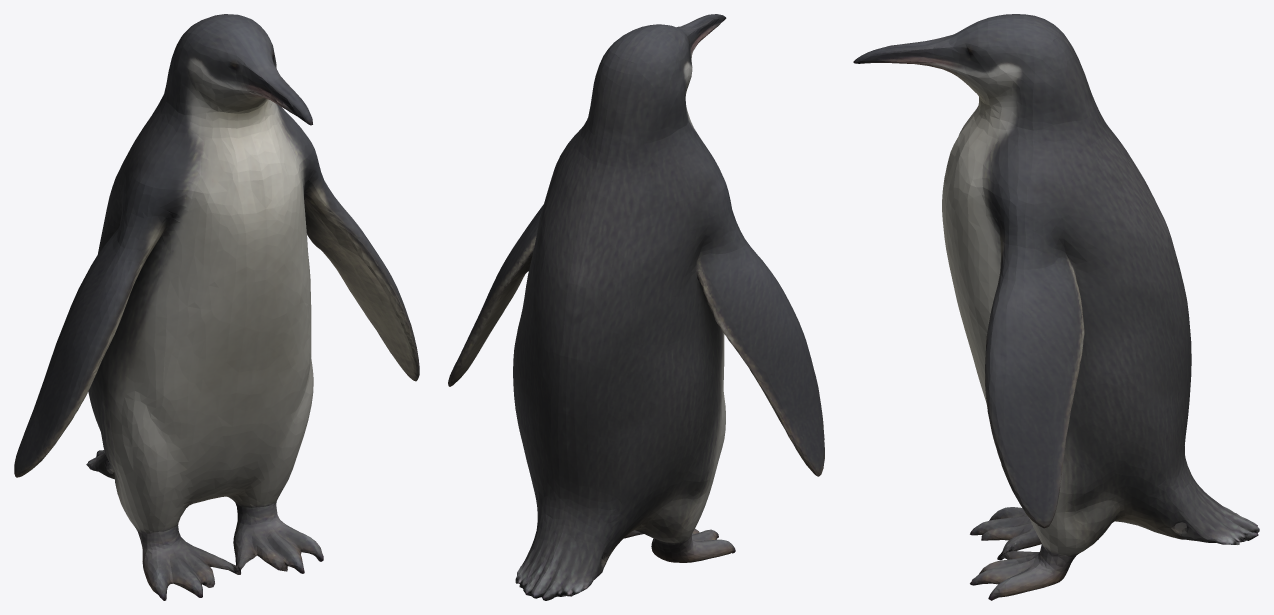
3 views of the same model, side by side, from view 1: azimuth 30°, elevation 25°; view 2: azimuth 150°, elevation 25°; view 3: azimuth 270°, elevation 25° (orthographic). The views are drawn at different scales.
Visible parts, largest first — view 1: world; view 2: world; view 3: world.
Part boxes in pixels (x1,y1,x2,y2): world: (14,14,419,600); world: (448,14,824,600); world: (853,14,1259,600).
Size of the model in its own units: 0.6978 by 0.9183 by 0.6215.
Materials: 1 (1 with a texture image).
